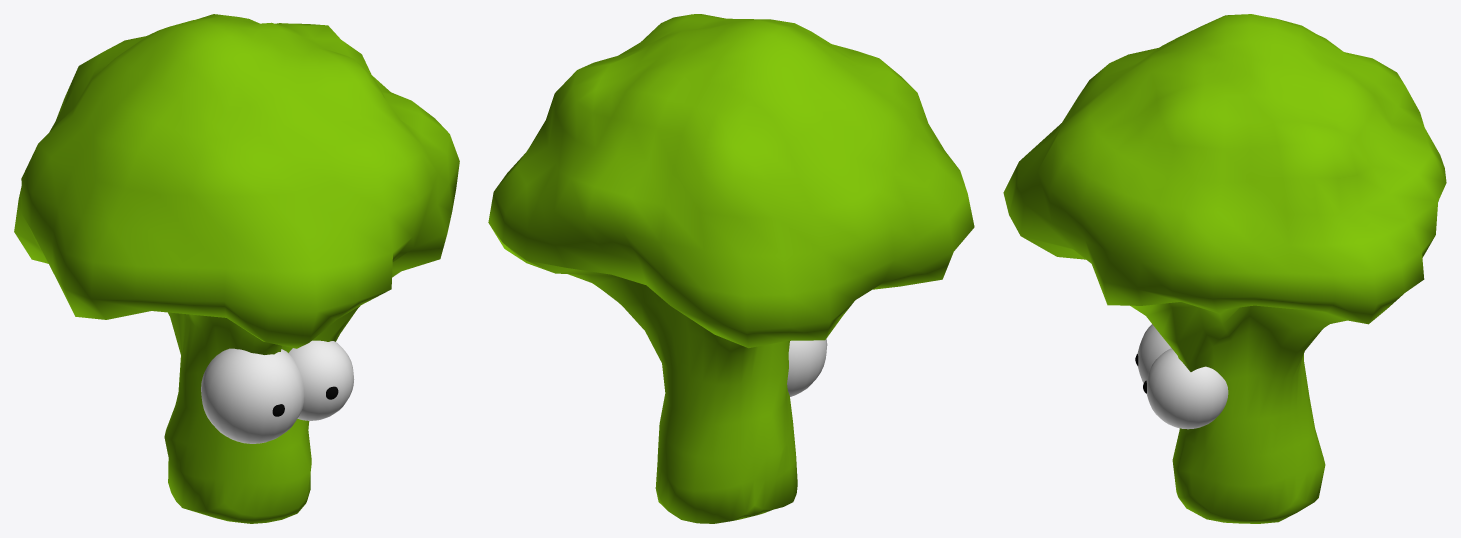
File: Broccoli.fbx
3 renders of one model, left to right at view 1: azimuth 30°, elevation 25°; view 2: azimuth 150°, elevation 25°; view 3: azimuth 270°, elevation 25°, orthographic. The views are drawn at different scales.
Visible parts, largest first — view 1: Eyes:Poteiro1; view 2: Eyes:Poteiro1; view 3: Eyes:Poteiro1.
Boxes of the visible parts, bbox=[...] form: Eyes:Poteiro1: bbox=[14, 14, 459, 523]; Eyes:Poteiro1: bbox=[488, 14, 974, 523]; Eyes:Poteiro1: bbox=[1003, 14, 1446, 523].
Size of the model in its own units: 5.48 by 6.5 by 5.57.
